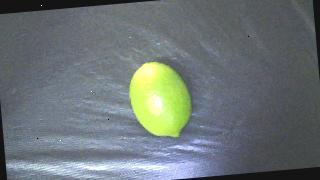LOCAL: (127, 59, 194, 141)
